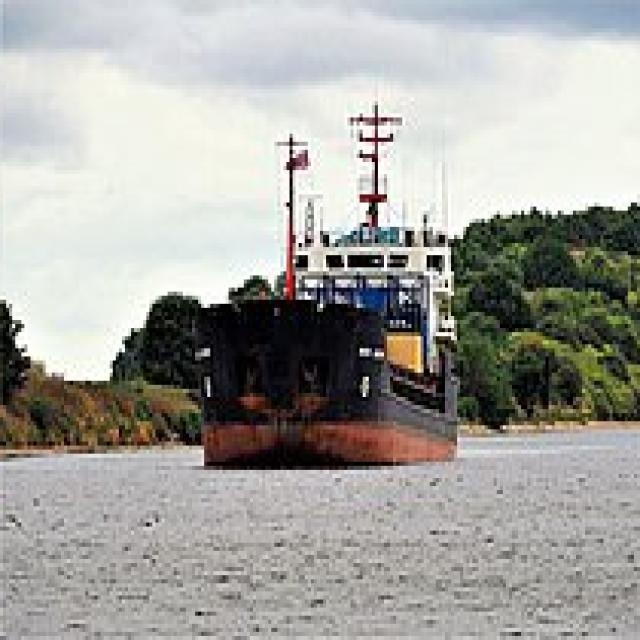Cargo: (195, 97, 472, 466)
